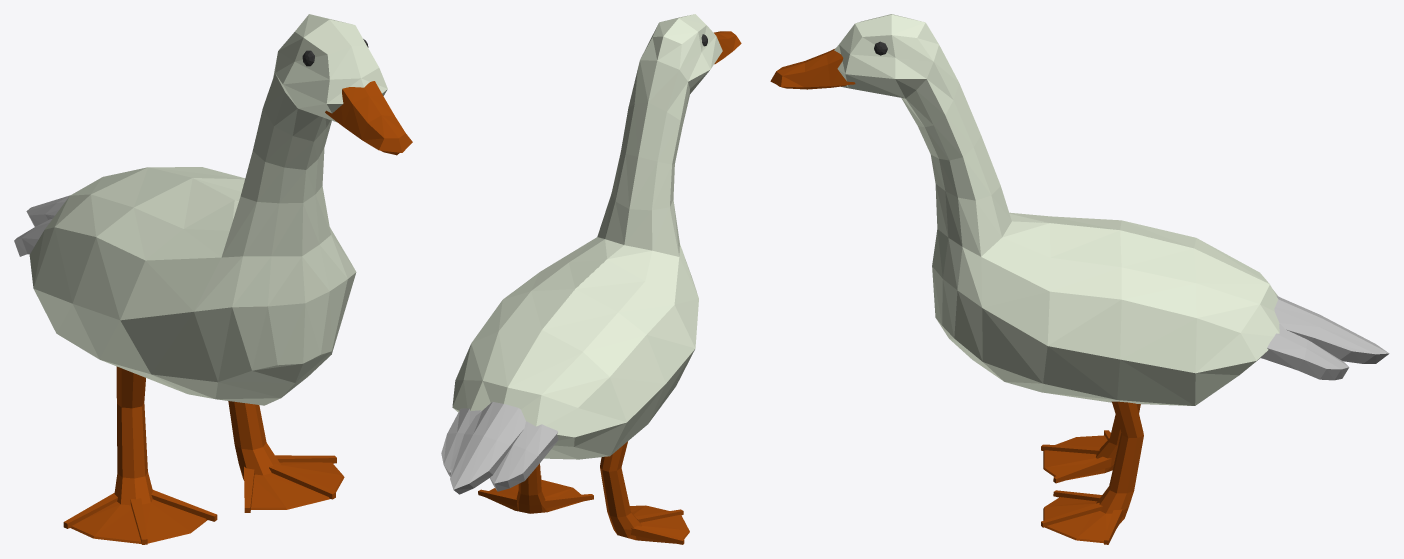
Rendered from duck.gltf.
3 views of the same model, side by side, from view 1: azimuth 30°, elevation 25°; view 2: azimuth 150°, elevation 25°; view 3: azimuth 270°, elevation 25° (orthographic). The views are drawn at different scales.
Parts seen in each view (by area): view 1: node-0; view 2: node-0; view 3: node-0.
Part boxes in pixels (x1,y1,x2,y2): node-0: (14,14,412,544); node-0: (441,14,741,544); node-0: (770,14,1389,544).
Bounding box in the file's own units: 1.77 × 3.57 × 4.2.
